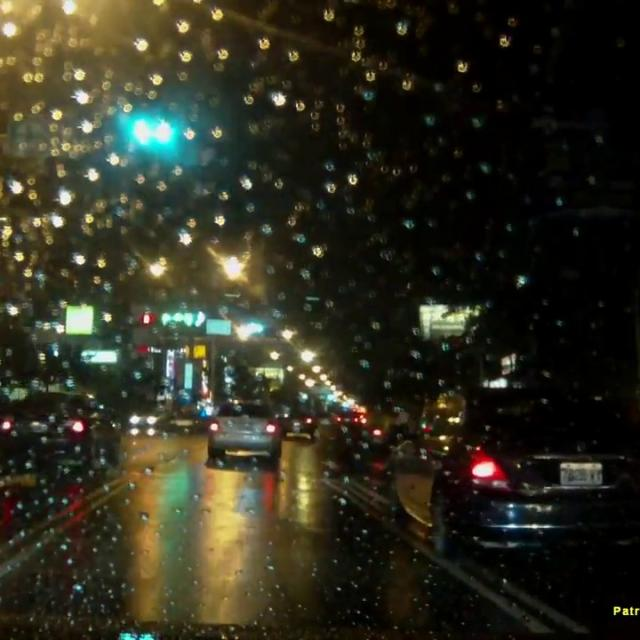Car: (379, 385, 637, 558), (0, 386, 119, 484), (204, 399, 282, 458), (280, 410, 314, 440)
